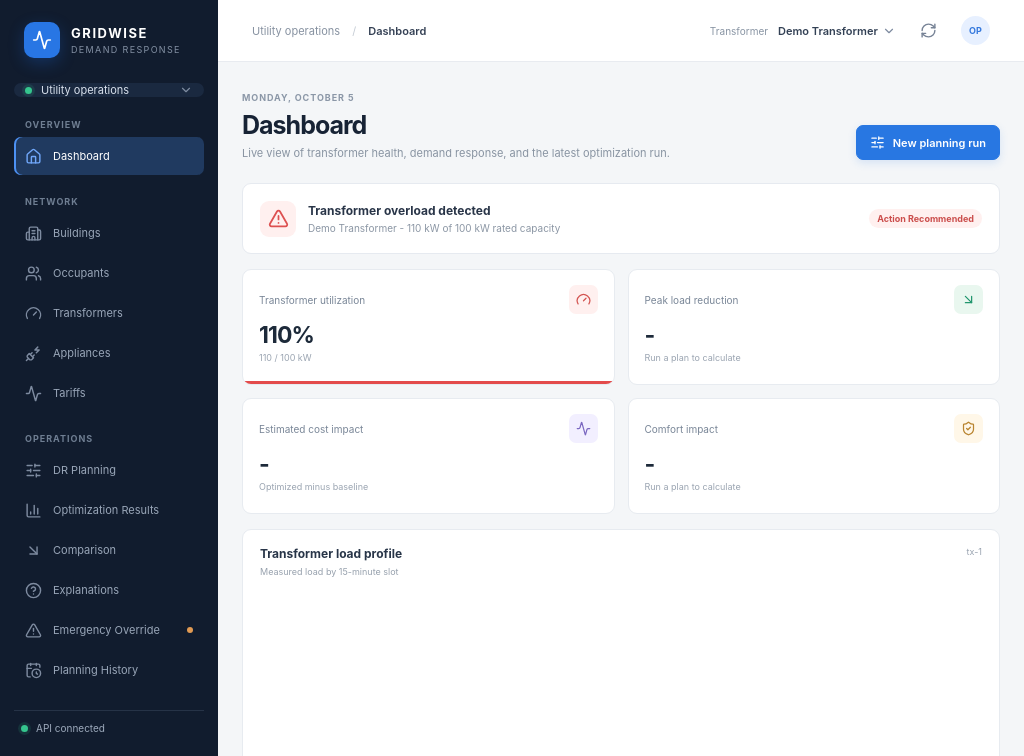
Scenario: operator console › loads live transformer values and runs the planning workflow through FastAPI
Check: the text "Transformer overload detected" is shown, box top-left (308, 203), bottom-right (490, 218)
Check: the text "Demo Transformer - 110 kW of 100 kW rated capacity" is shown, box top-left (308, 222), bottom-right (560, 234)
Click the button "DR Planning". click: {"x": 109, "y": 470}
box: top-left (14, 451), bottom-right (204, 489)
(page scrolled)
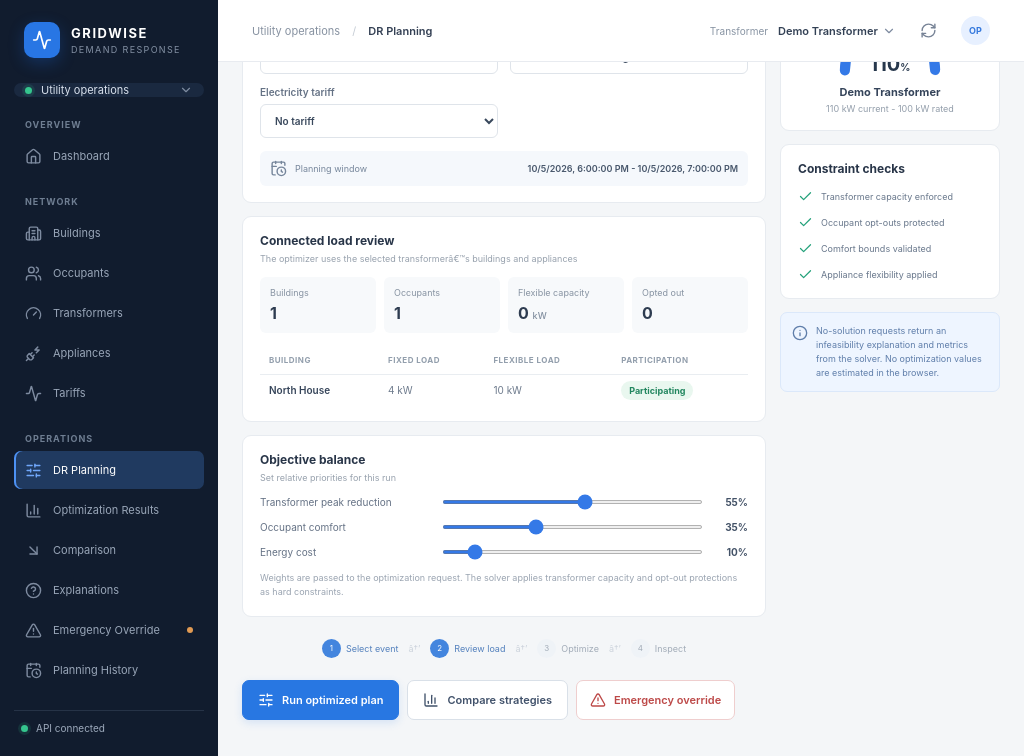
Click the button "Run optimized plan". click: {"x": 321, "y": 700}
box: top-left (242, 680), bottom-right (400, 720)
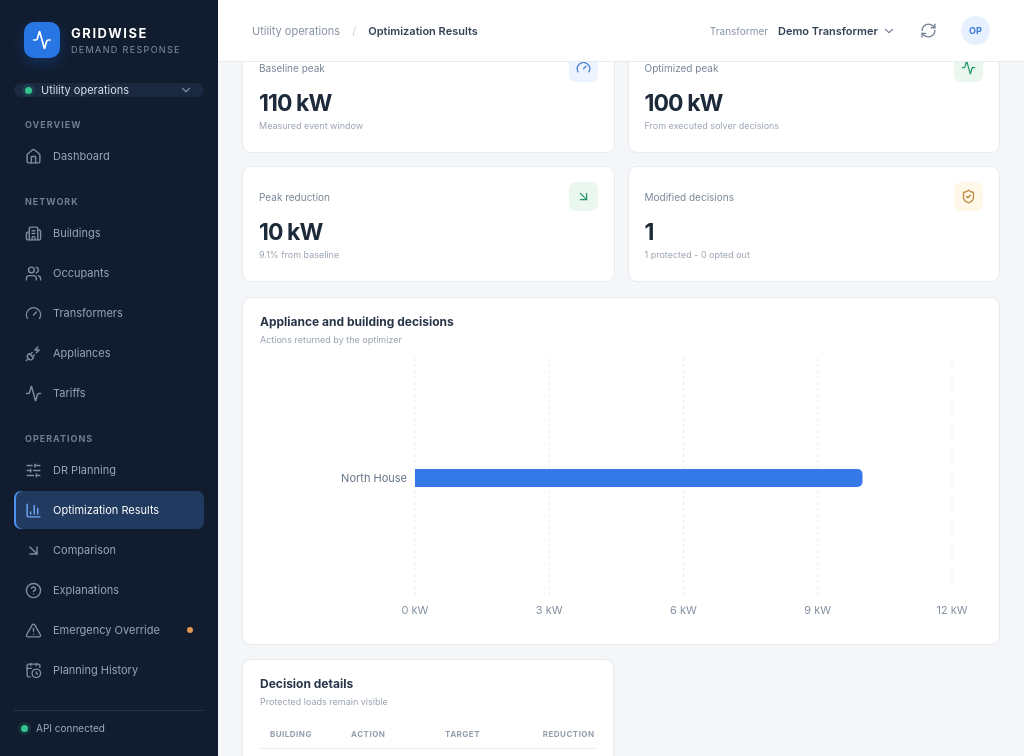
Check: the text "10 kW" is shown, box top-left (259, 218), bottom-right (322, 246)
